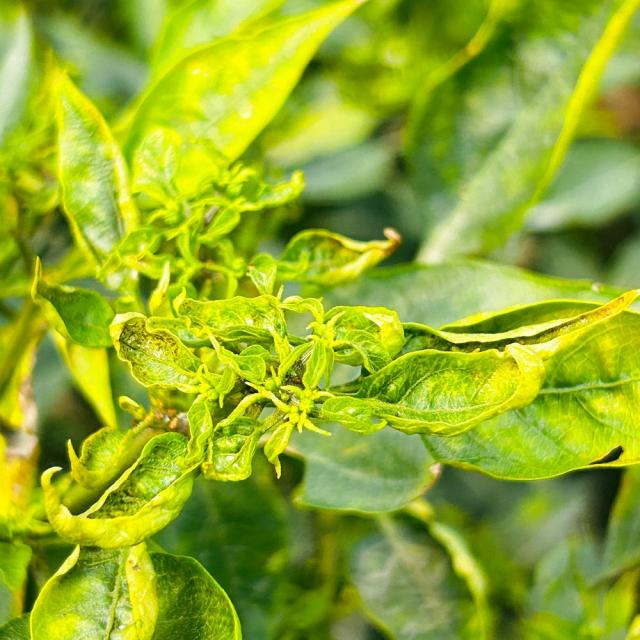Chilli_Leaf_Curl: (1, 0, 638, 638), (38, 265, 638, 550), (321, 287, 638, 482), (39, 428, 200, 548)
